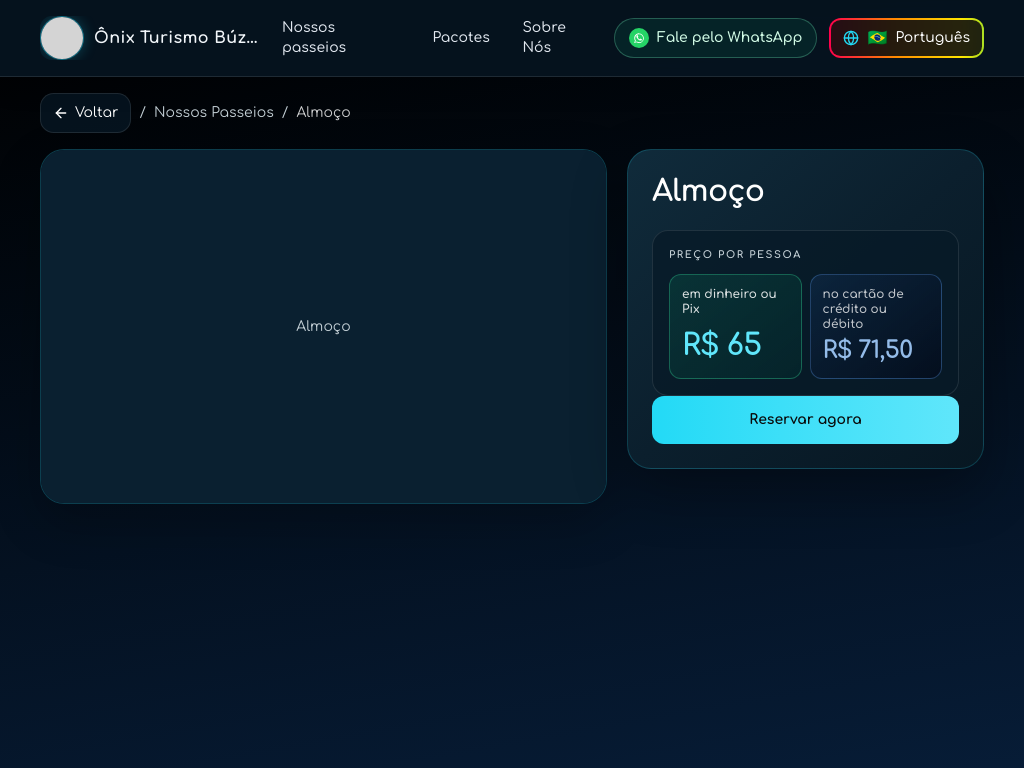
Scenario: CMS lunch tour details › opens the special booking form from the reserve button
Click the button "Reservar agora": (806,420) [652, 396, 959, 444]
(page scrolled)
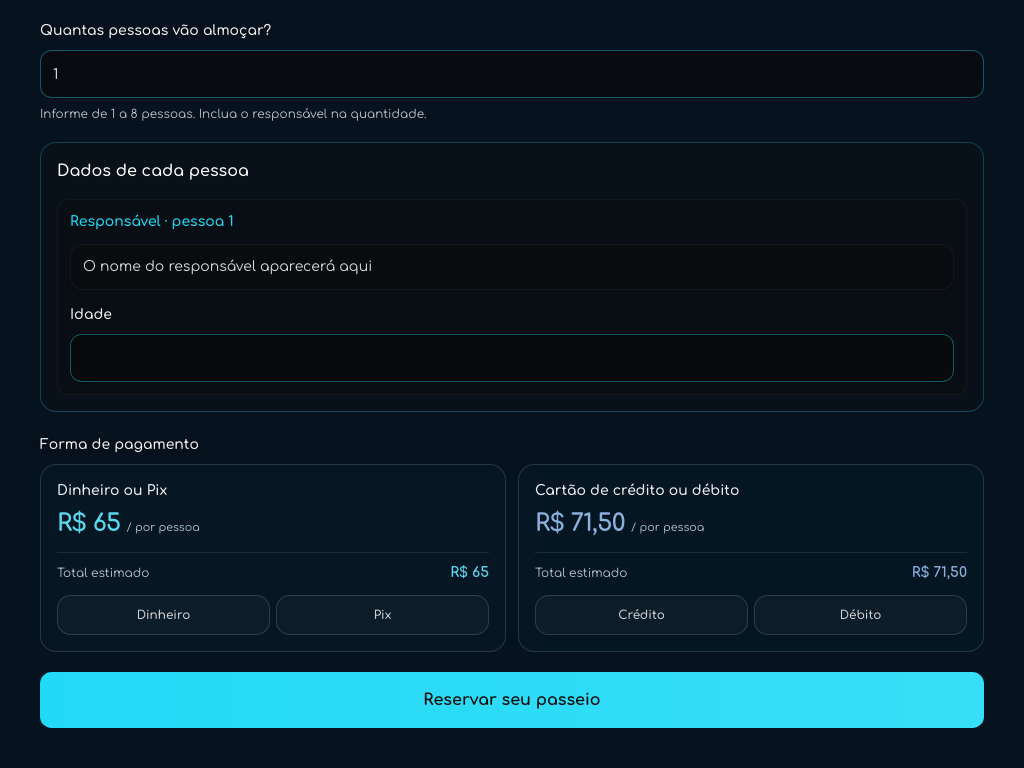
expect the text "Quantas pessoas vão almoçar?" is shown: met, box [40, 23, 271, 38]
expect the text "Forma de pagamento" is shown: met, box [40, 437, 199, 452]
